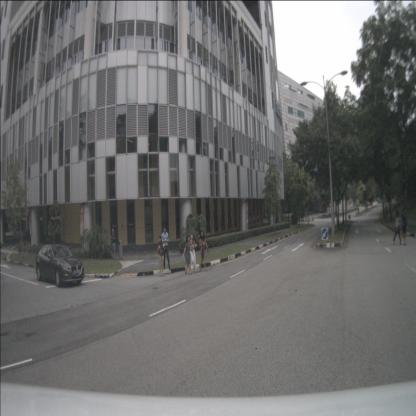human-pedestrian-adult: (161, 227, 172, 272), (199, 230, 209, 272), (182, 234, 192, 275), (392, 209, 402, 245), (188, 234, 197, 274), (157, 235, 165, 278), (400, 206, 407, 247), (110, 228, 116, 260)
vehicle-car: (36, 244, 85, 286)
